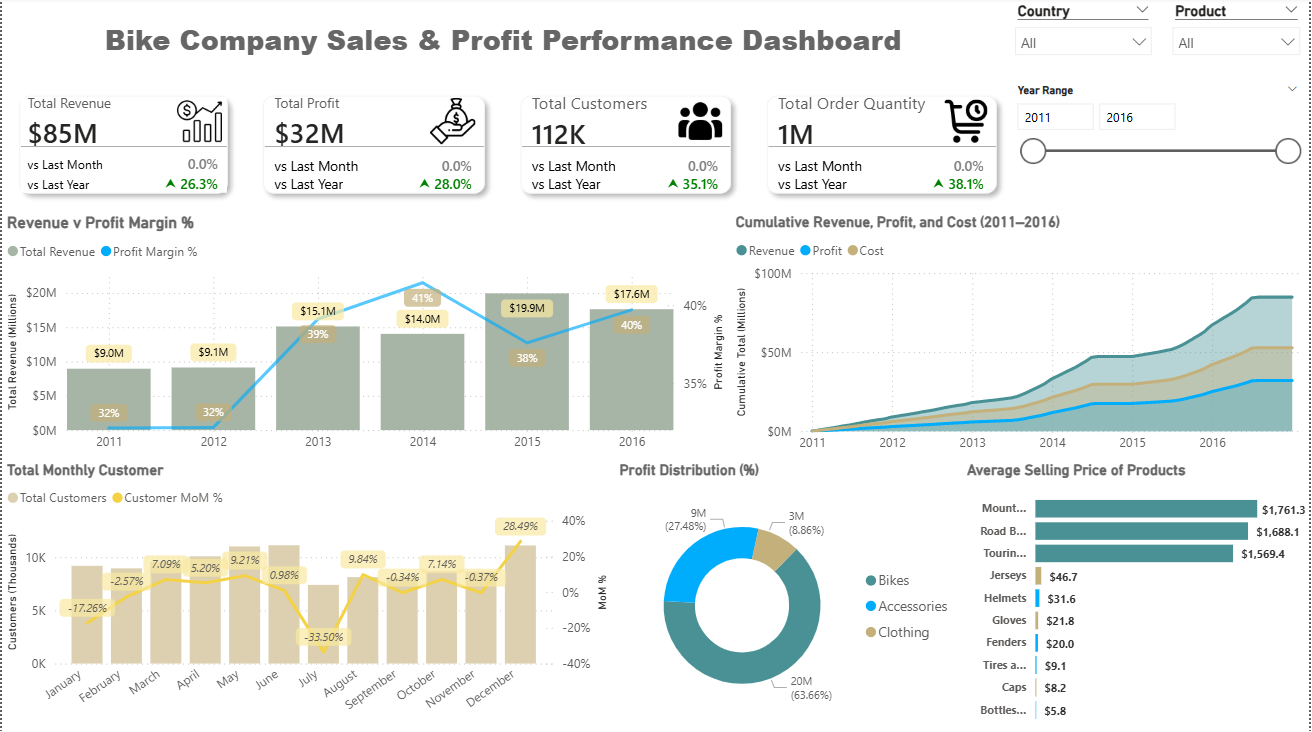

What the dashboard file says about the page in this screenshot:
{"tool":"powerbi","page":{"name":"Dashboard","canvas":[1280,720],"ordinal":1},"visuals":[{"type":"lineStackedColumnComboChart","title":"Revenue v Profit Margin %","fields":{"Y":["raw.Total Revenue"],"Category":["Date.Year"],"Y2":["raw.Profit Margin %"]},"box":[0,211.2,712.9,242.3],"z":0},{"type":"barChart","title":"Average Selling Price of Products","fields":{"Category":["raw.Sub_Category"],"Series":["raw.Product_Category"],"Y":["All Measures.Avg Selling Price"]},"box":[939.1,453.7,341.2,266.6],"z":1000},{"type":"lineStackedColumnComboChart","title":"Total Monthly Customer","fields":{"Category":["Date.Month"],"Y":["All Measures.Total Customers"],"Y2":["All Measures.Customer MoM %"]},"box":[0,453.7,599.2,266.6],"z":2000},{"type":"slicer","fields":{"Values":["raw.Product_Category"]},"box":[996.6,79.5,138.2,64.8],"z":3000},{"type":"slicer","fields":{"Values":["raw.Country"]},"box":[1123.8,0,156.5,64.8],"z":4000},{"type":"textbox","box":[0,0,980.7,79.5],"z":5000},{"type":"slicer","fields":{"Values":["Date.Year"]},"box":[939.1,0,184.6,79.5],"z":6000},{"type":"cardVisual","fields":{"Data":["raw.Total Revenue"]},"box":[0,79.5,238.5,130.8],"z":7000},{"type":"cardVisual","fields":{"Data":["raw.Total Profit"]},"box":[238.5,79.5,251.9,130.8],"z":8000},{"type":"cardVisual","fields":{"Data":["raw.Total Customers"]},"box":[490.4,79.5,240.9,130.8],"z":9000},{"type":"cardVisual","fields":{"Data":["raw.Total Quantity"]},"box":[731.3,79.5,259.2,130.8],"z":10000},{"type":"areaChart","title":"Cumulative Revenue, Profit, and Cost (2011–2016)","fields":{"Y":["raw.RT Revenue","raw.RT Profit","raw.RT Cost"],"Category":["Date.Date"]},"box":[712.9,211.6,567.4,243.3],"z":11000},{"type":"donutChart","title":"Profit Distribution (%)","fields":{"Category":["raw.Product_Category"],"Y":["All Measures.Total Profit"]},"box":[599.2,453.7,339.9,266.6],"z":12000},{"type":"slicer","fields":{"Values":["raw.Age_Group"]},"box":[1134.8,79.5,145.5,64.8],"z":12001}]}

Visuals, with their boxes in screenshot pixels (x1, y1, x2, y2), scaled from the page's 1280x720 canvas onto the 1312x732 screenshot:
"Revenue v Profit Margin %" lineStackedColumnComboChart: box(0, 215, 731, 461)
"Average Selling Price of Products" barChart: box(963, 461, 1311, 731)
"Total Monthly Customer" lineStackedColumnComboChart: box(0, 461, 614, 731)
slicer - raw.Product_Category: box(1022, 81, 1163, 147)
slicer - raw.Country: box(1152, 0, 1311, 66)
textbox: box(0, 0, 1005, 81)
slicer - Date.Year: box(963, 0, 1152, 81)
cardVisual - raw.Total Revenue: box(0, 81, 244, 214)
cardVisual - raw.Total Profit: box(244, 81, 503, 214)
cardVisual - raw.Total Customers: box(503, 81, 750, 214)
cardVisual - raw.Total Quantity: box(750, 81, 1015, 214)
"Cumulative Revenue, Profit, and Cost (2011–2016)" areaChart: box(731, 215, 1311, 462)
"Profit Distribution (%)" donutChart: box(614, 461, 963, 731)
slicer - raw.Age_Group: box(1163, 81, 1311, 147)
